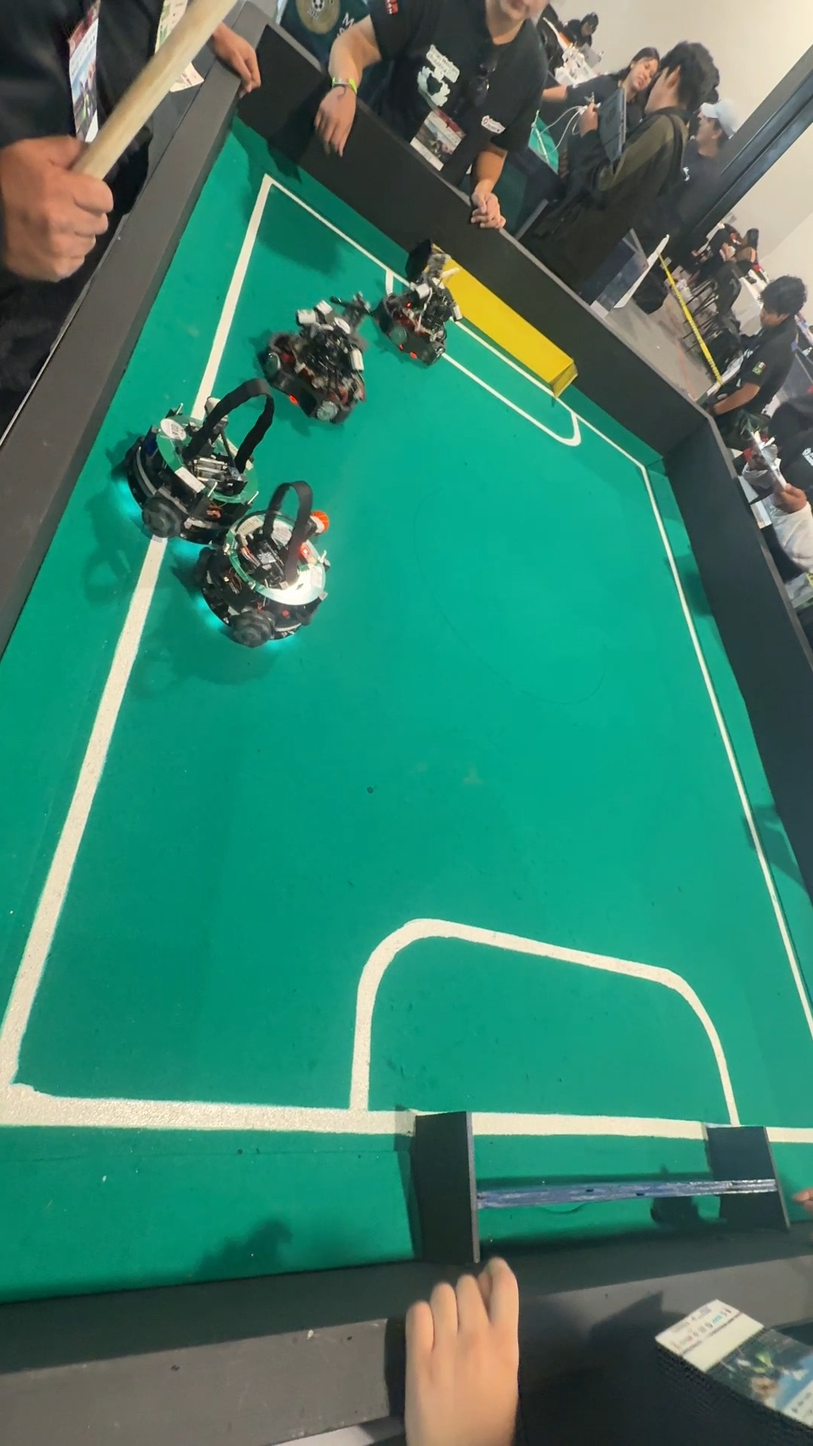Robot: (112, 359, 273, 556), (202, 468, 337, 661), (257, 279, 376, 433), (361, 245, 463, 381)
